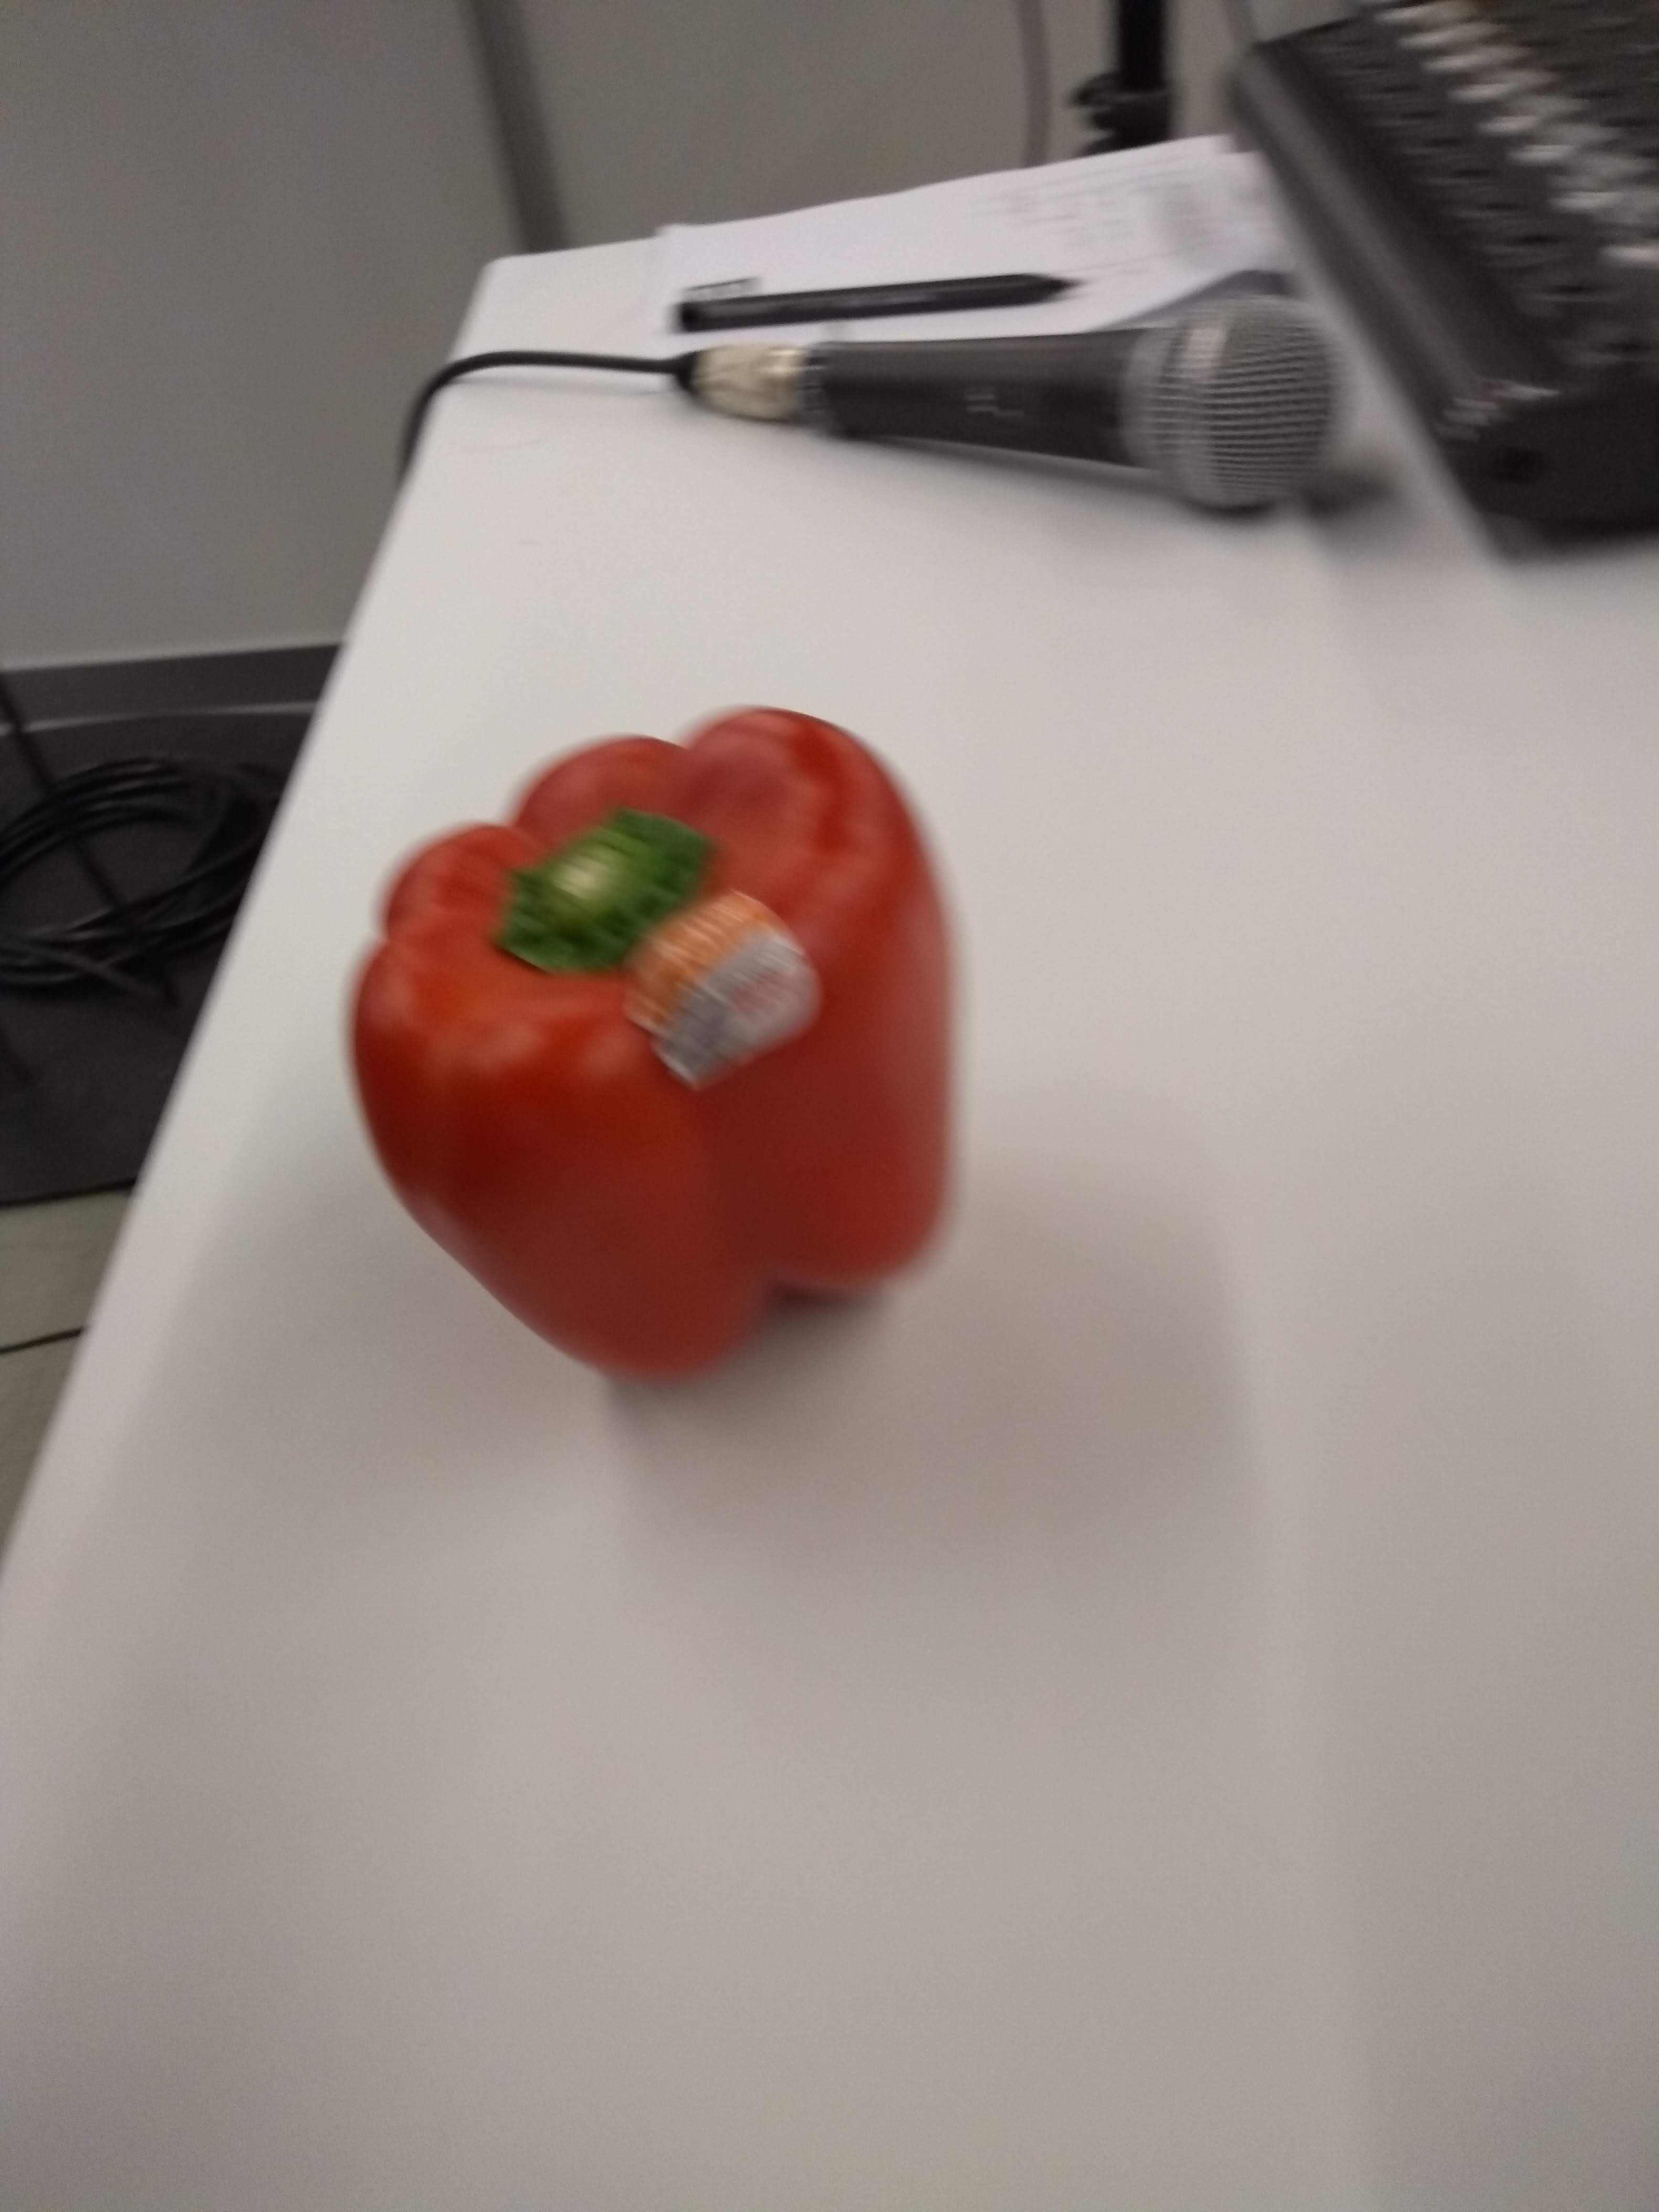paprika: (333, 698, 985, 1404)
